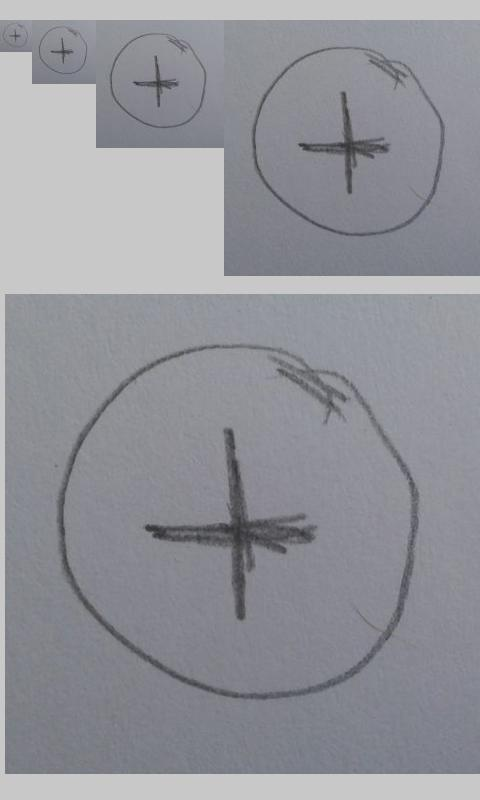button: (54, 342, 422, 701), (251, 46, 446, 238), (109, 32, 208, 129), (38, 26, 89, 75), (2, 22, 29, 48)
